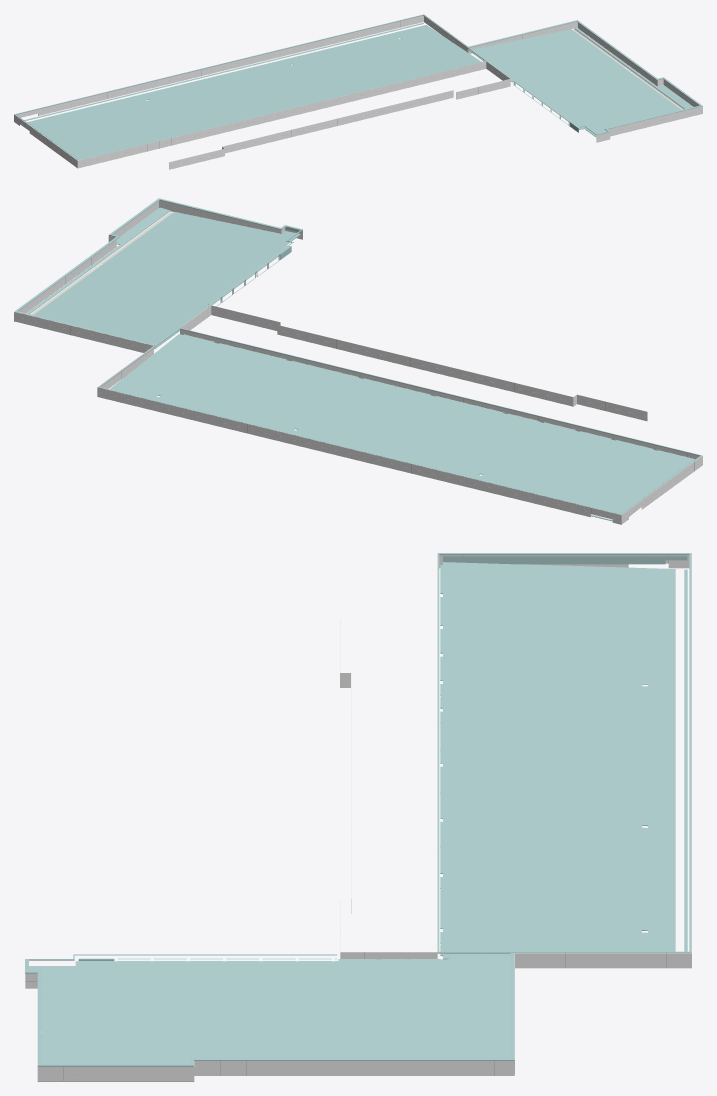
File: storey-5-rf.glb
3 renders of one model, top to bottom at view 1: azimuth 30°, elevation 25°; view 2: azimuth 150°, elevation 25°; view 3: azimuth 270°, elevation 25°, orthographic. The views are drawn at different scales.
Bounding box in the file's own units: 134 × 1.96 × 73.68.
